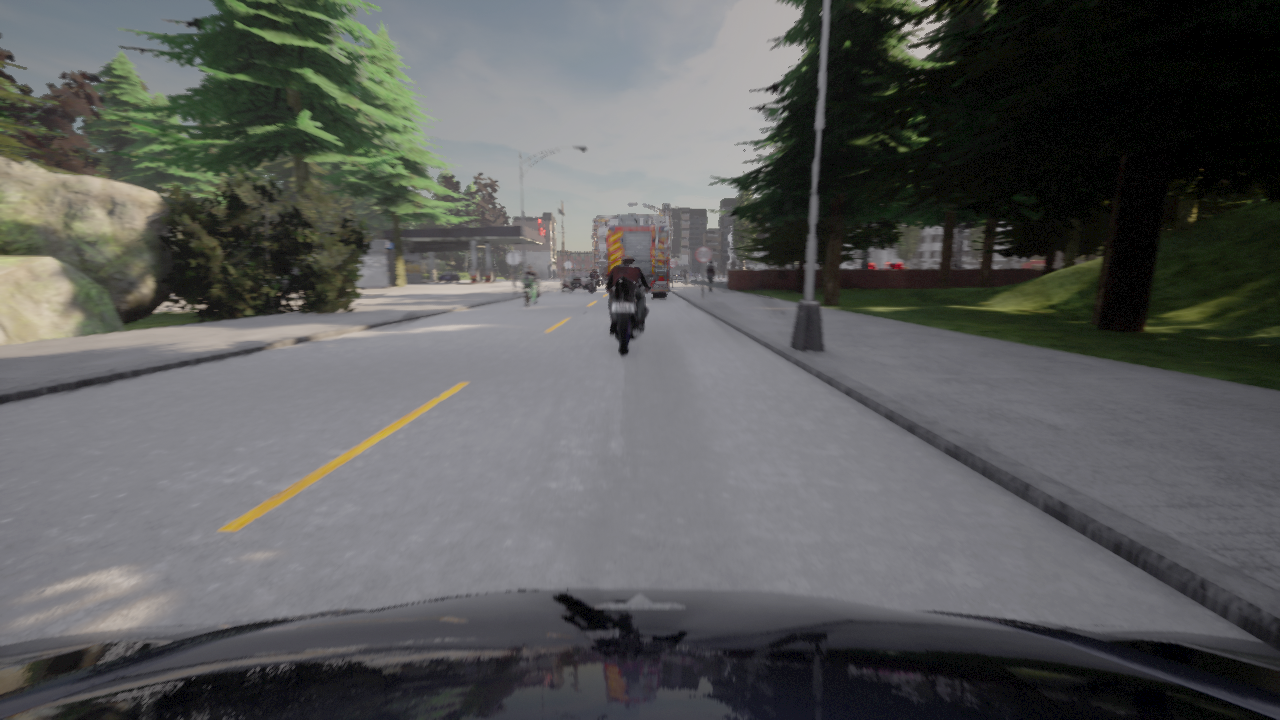cyclist: (0, 588, 1279, 719), (607, 215, 668, 298), (606, 274, 653, 355), (515, 275, 541, 307), (561, 271, 596, 292), (438, 271, 460, 282), (590, 272, 599, 285), (693, 273, 701, 274), (689, 272, 692, 274)
pedestrian: (706, 260, 715, 292), (681, 265, 688, 285)
